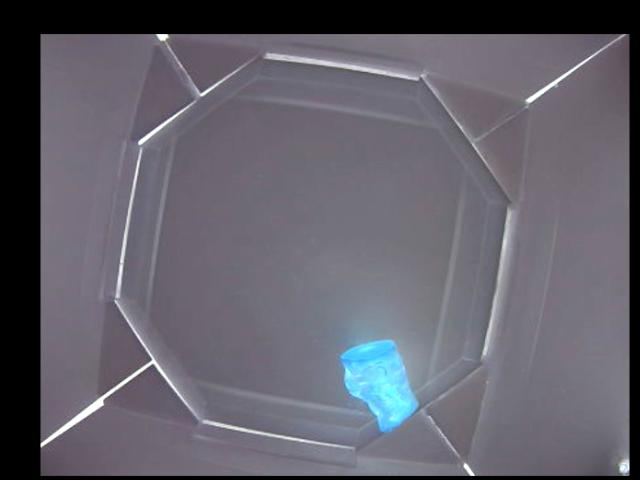Carrot: (343, 343, 416, 428)
